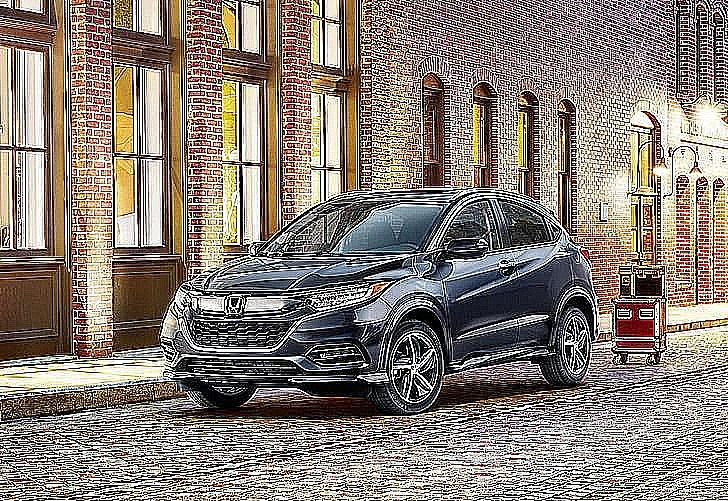Car hood: (188, 253, 421, 296)
Fender - -F-L-: (377, 247, 451, 372)
Fender - -R-L-: (566, 236, 598, 305)
Front bumper: (155, 312, 397, 393)
Headlight - -L-: (299, 275, 400, 315)
Headlight - -R-: (167, 280, 202, 321)
Passenger-s door - -F-L-: (439, 190, 520, 365)
Passenger-s door - -R-L-: (509, 196, 576, 352)
Rear bumper: (589, 295, 609, 346)
Rear light - -L-: (579, 244, 599, 264)
Side bumper - -L-: (441, 335, 562, 377)
Side mirror - -L-: (441, 234, 493, 268)
Side mirror - -R-: (244, 235, 270, 259)
